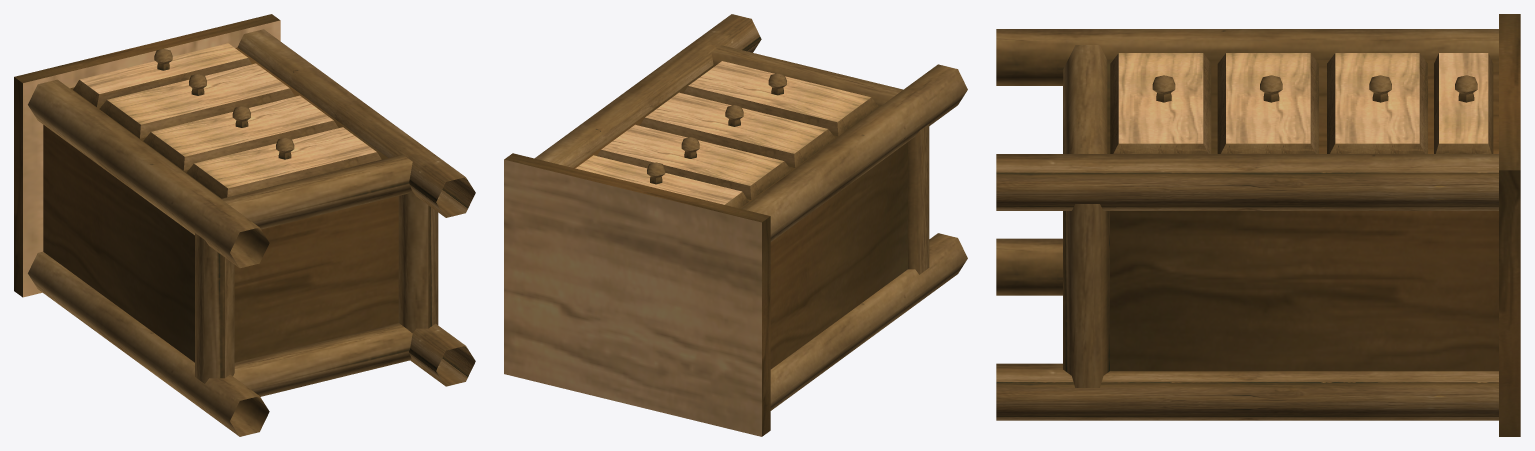
File: Log_Dresser_B.fbx
3 renders of one model, left to right at view 1: azimuth 30°, elevation 25°; view 2: azimuth 150°, elevation 25°; view 3: azimuth 270°, elevation 25°, orthographic. The views are drawn at different scales.
Visible parts, largest first — view 1: Log_Dresser_B; view 2: Log_Dresser_B; view 3: Log_Dresser_B.
Boxes of the visible parts, x1,y1,x2,y2 form: Log_Dresser_B: (14, 14, 475, 436); Log_Dresser_B: (504, 14, 967, 436); Log_Dresser_B: (996, 14, 1520, 436).
Bounding box in the file's own units: 8.04 × 6.78 × 11.4.
